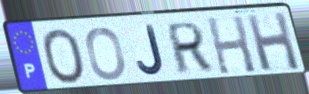H: (244, 10, 303, 73), (204, 14, 259, 76)
J: (135, 23, 167, 78)
O: (40, 27, 88, 86), (84, 25, 128, 82)
R: (166, 20, 214, 76)
